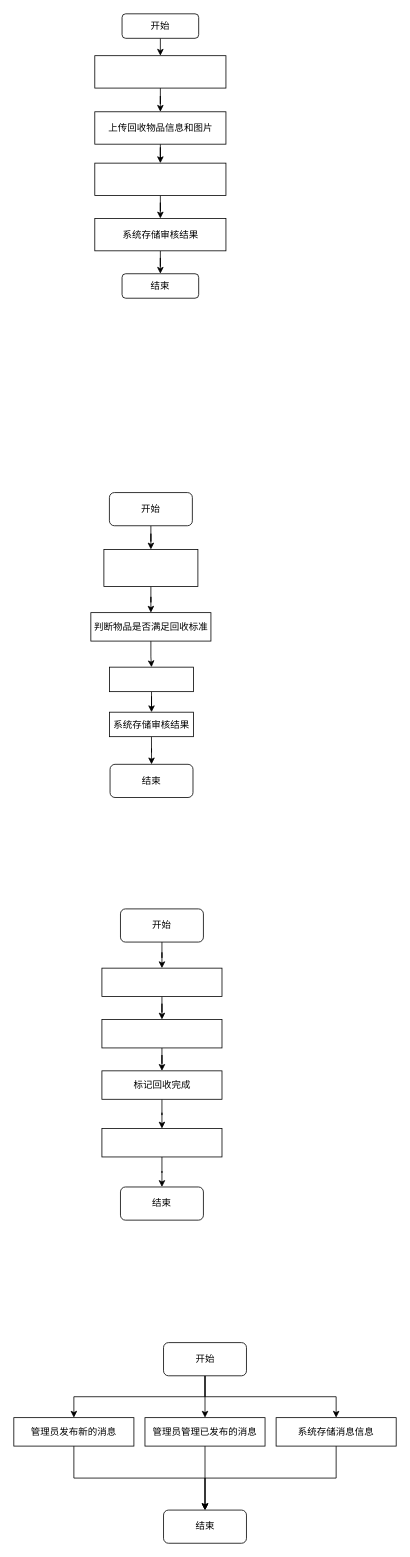
Some shapes in this 410 by 1557 pixel diagram are drawn without their labels. Each missing label, with the centre of its shape:
"回收工作人员完成回收任务" belongs at point (160, 71).
"接受新的回收请求" belongs at point (161, 982).
"更新回收进度" belongs at point (161, 1033).
"管理员查看待审核的回收物品信息和图片" belongs at point (150, 568).
"系统保存回收状态" belongs at point (161, 1142).
"系统或管理员进行审核" belongs at point (160, 179).
"给出审核结果" belongs at point (151, 679).
